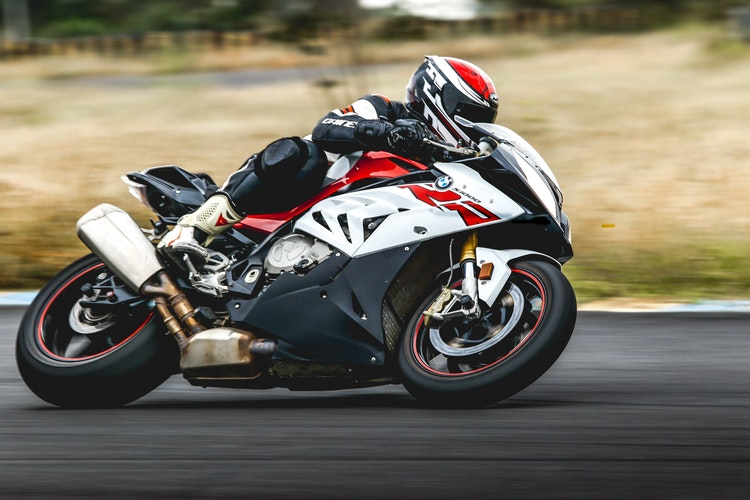helmet: (404, 58, 504, 143)
